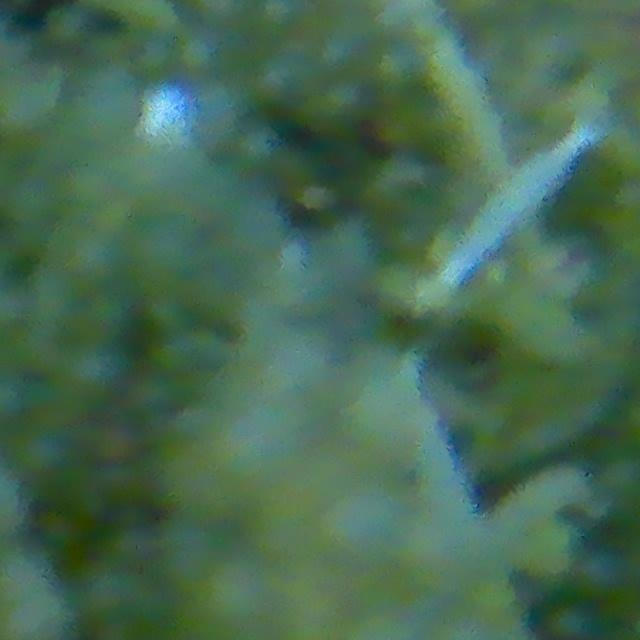SeaGrape: (156, 410, 286, 513), (304, 443, 410, 555), (331, 350, 428, 441), (241, 337, 332, 422), (201, 550, 280, 640), (0, 568, 76, 640), (254, 0, 309, 38), (545, 611, 609, 640)
